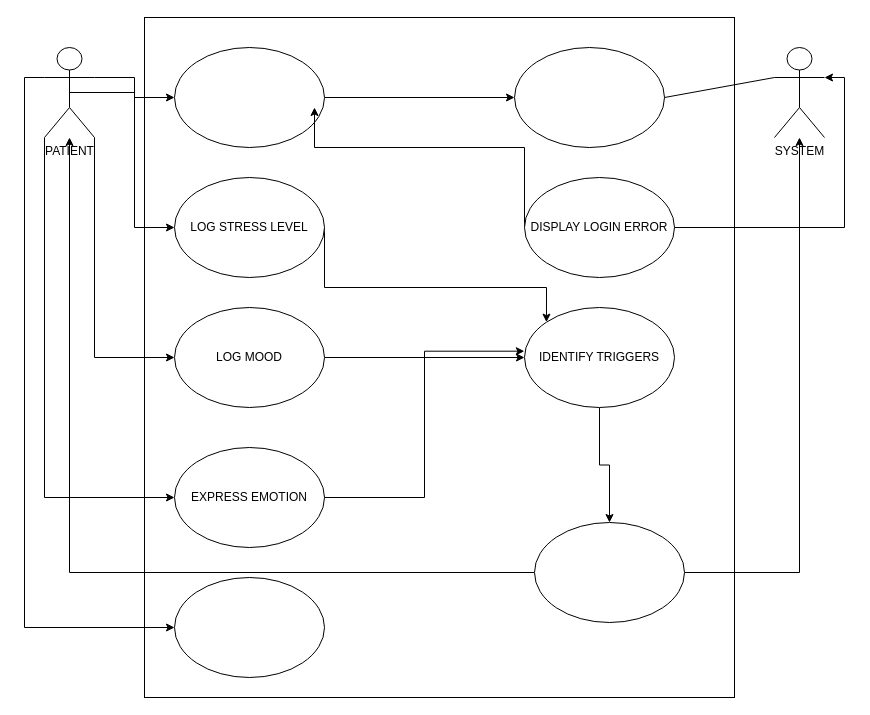
Some shapes in this 870 by 715 pixel diagram are drawn without their labels. Each missing label, with the centre of its shape:
"LOGIN" belongs at pixel 249 97.
"PROVIDE CONSULTATION" belongs at pixel 609 572.
"SLEEP QUALITY" belongs at pixel 249 627.
"VERIFY PASS" belongs at pixel 589 97.
